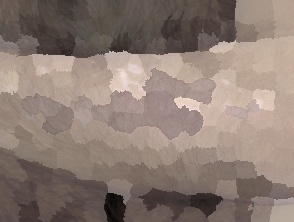vitiligo: (1, 44, 284, 162)
